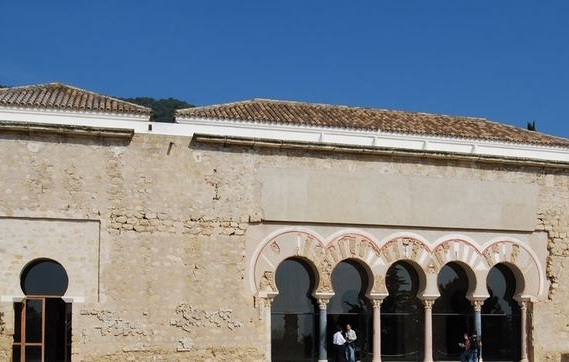arco-herradura: (267, 249, 323, 304), (323, 251, 378, 306), (377, 251, 429, 307), (429, 253, 479, 308), (16, 254, 69, 303), (479, 253, 528, 306)
